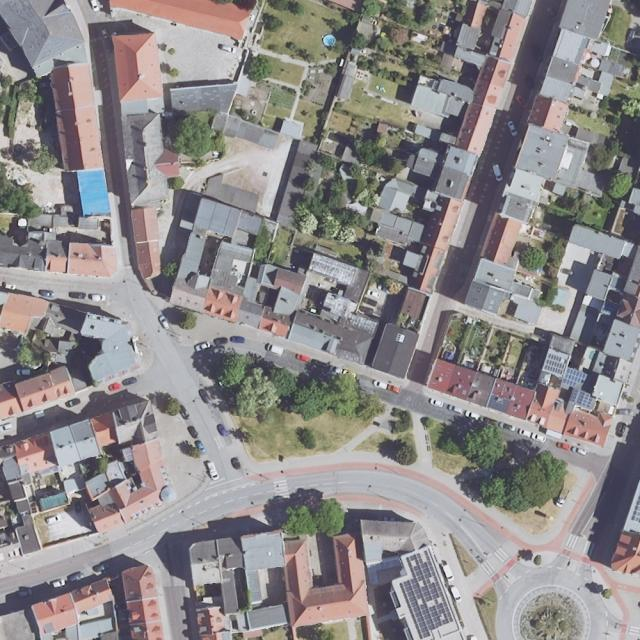PV: (400, 549, 455, 639), (543, 353, 567, 376), (562, 366, 587, 388), (570, 390, 593, 408), (632, 492, 639, 524)
